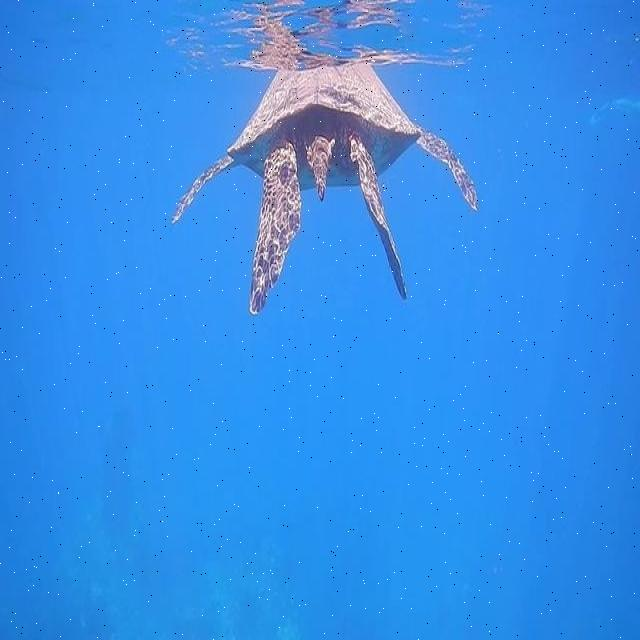fish: (171, 62, 479, 311)
